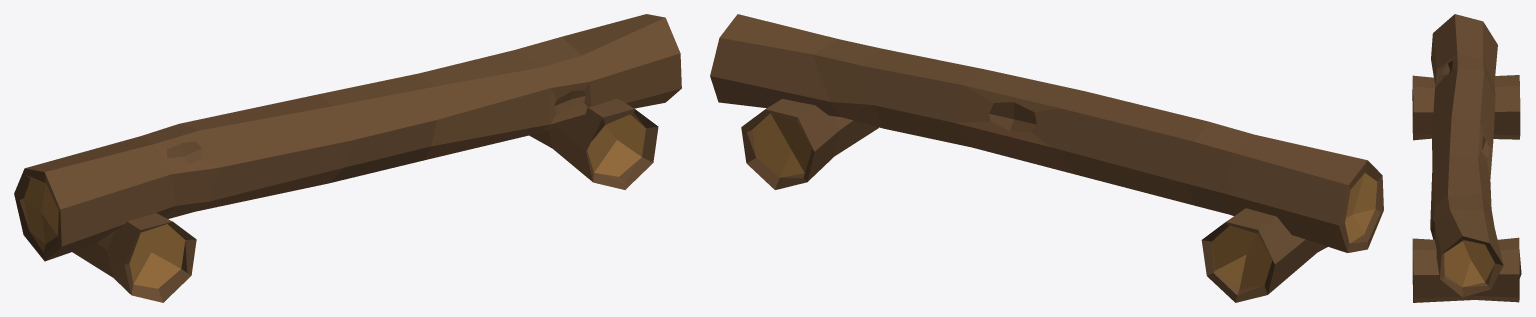
File: log-bench-long.fbx
3 renders of one model, left to right at view 1: azimuth 30°, elevation 25°; view 2: azimuth 150°, elevation 25°; view 3: azimuth 270°, elevation 25°, orthographic. The views are drawn at different scales.
Visible parts, largest first — view 1: log-bench-long; view 2: log-bench-long; view 3: log-bench-long.
Boxes of the visible parts, left/top/right/bottom form: log-bench-long: left=14, top=14, right=681, bottom=302; log-bench-long: left=710, top=14, right=1383, bottom=302; log-bench-long: left=1412, top=14, right=1521, bottom=302.
Size of the model in its own units: 2.22 by 0.4498 by 0.4624.
